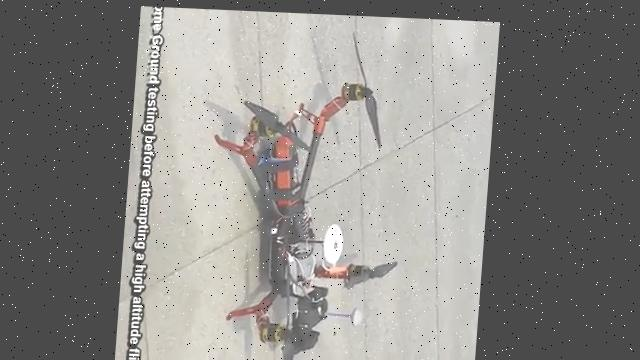drone: (197, 20, 417, 360)
